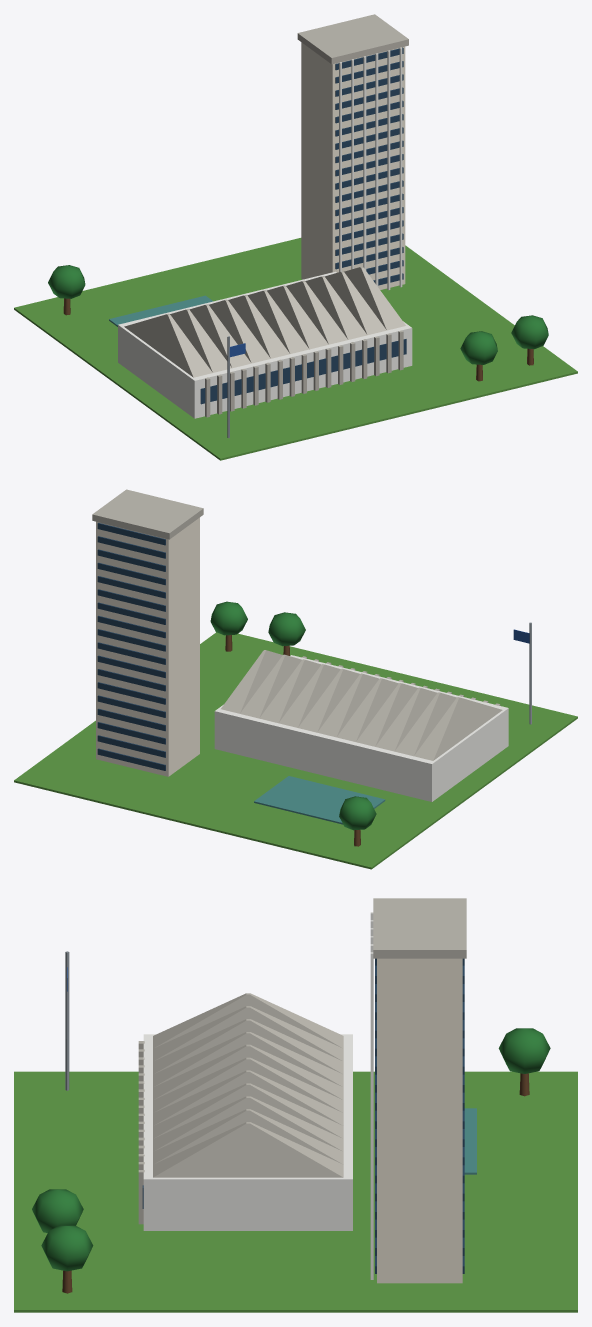
The model's file is building_parlimen.glb.
3 renders of one model, top to bottom at view 1: azimuth 30°, elevation 25°; view 2: azimuth 150°, elevation 25°; view 3: azimuth 270°, elevation 25°, orthographic. The views are drawn at different scales.
Visible parts, largest first — view 1: building_parlimen; view 2: building_parlimen; view 3: building_parlimen.
Boxes of the visible parts, <box> form: building_parlimen: <box>14,14,577,460</box>; building_parlimen: <box>14,489,577,869</box>; building_parlimen: <box>14,898,577,1312</box>.
Bounding box in the file's own units: 2.96 × 1.96 × 2.96.
